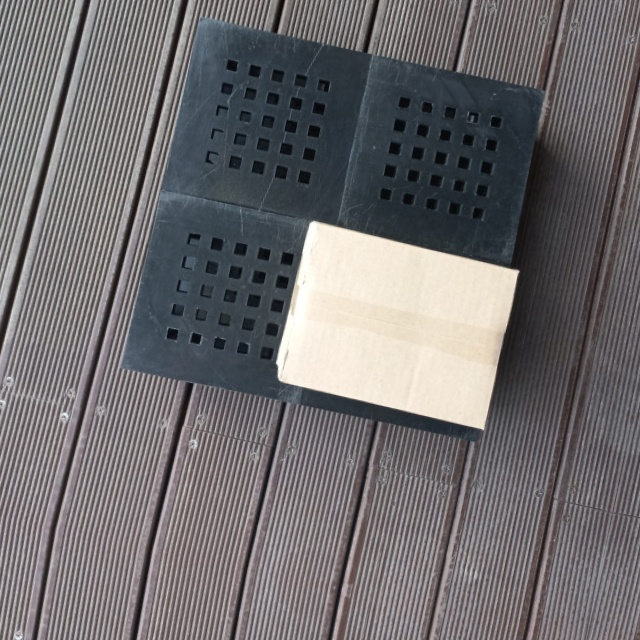box: (275, 217, 523, 436)
pallet: (113, 12, 548, 446)
